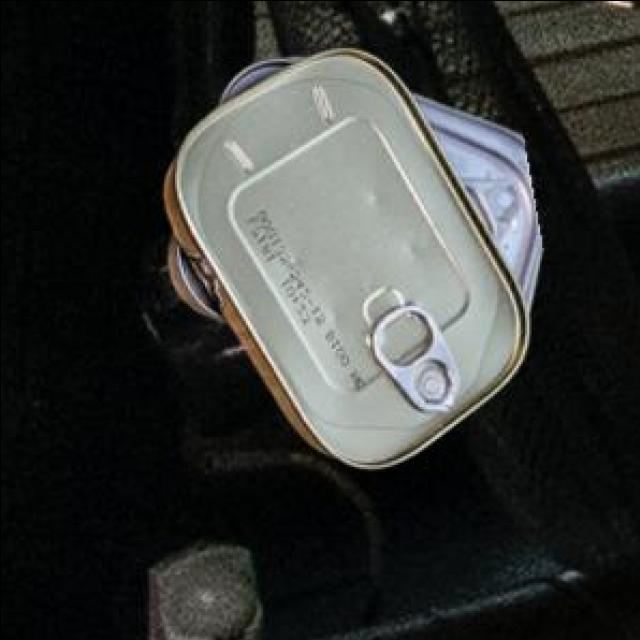logam: (160, 50, 538, 471)
